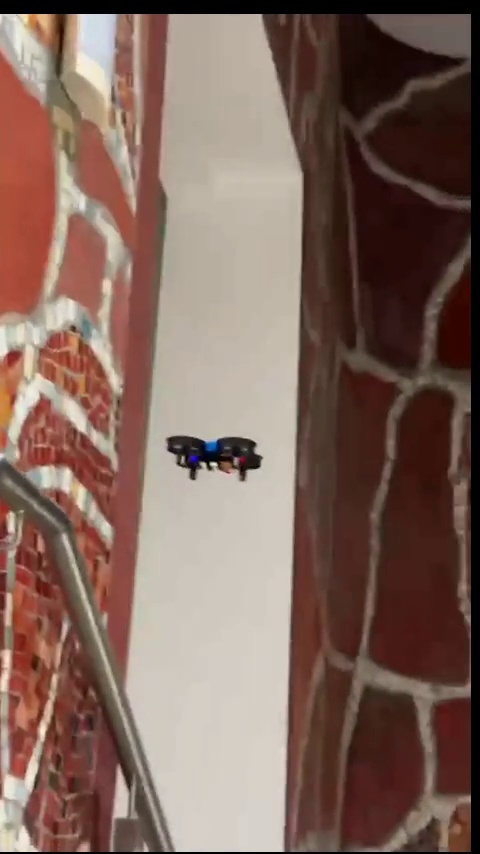drone: (161, 433, 262, 483)
